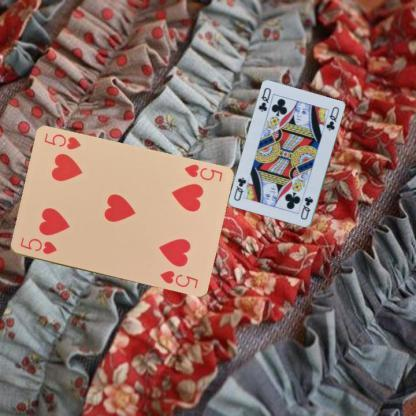5h: (182, 162, 224, 184), (17, 234, 58, 256)
Qc: (256, 84, 272, 113), (298, 194, 314, 221)
